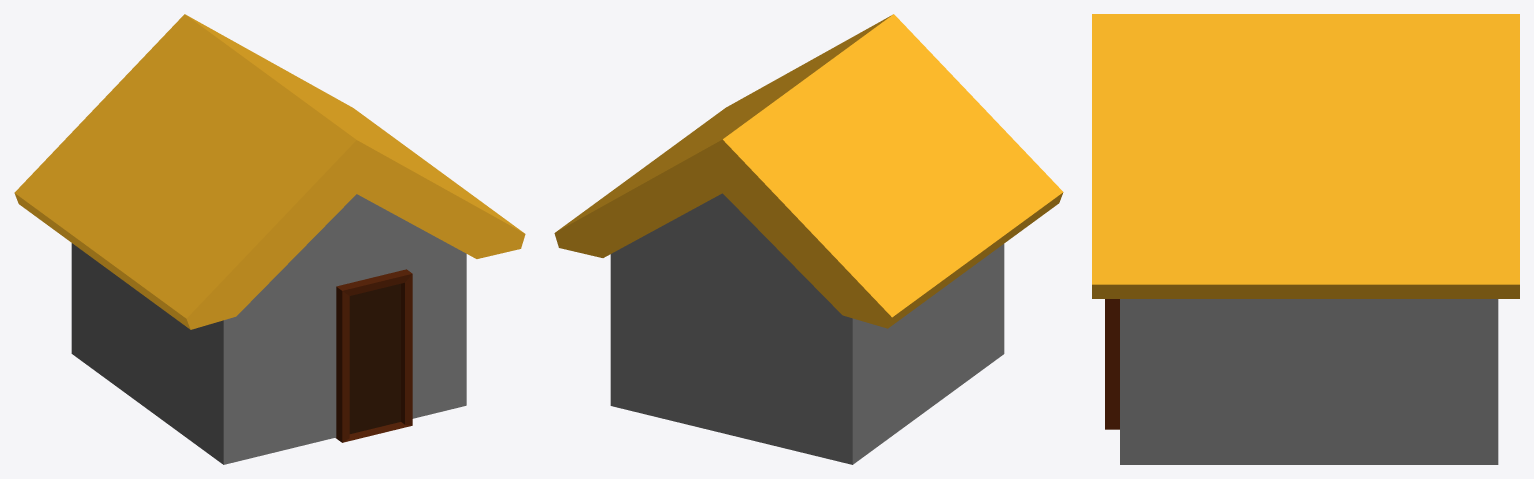
File: low_poly_house_2.obj
3 views of the same model, side by side, from view 1: azimuth 30°, elevation 25°; view 2: azimuth 150°, elevation 25°; view 3: azimuth 270°, elevation 25° (orthographic). The views are drawn at different scales.
Visible parts, largest first — view 1: roof, walls, door, door_frame; view 2: roof, walls; view 3: roof, walls, door_frame.
Boxes of the visible parts, box(x1,y1,x2,y2) form: roof: box(14, 14, 525, 329); walls: box(71, 194, 466, 464); door: box(349, 283, 400, 433); door_frame: box(335, 269, 412, 442); roof: box(554, 14, 1063, 328); walls: box(610, 193, 1004, 464); roof: box(1092, 14, 1519, 298); walls: box(1120, 299, 1498, 464); door_frame: box(1105, 299, 1119, 429).
Bounding box in the file's own units: 4.79 × 4.11 × 4.21.
